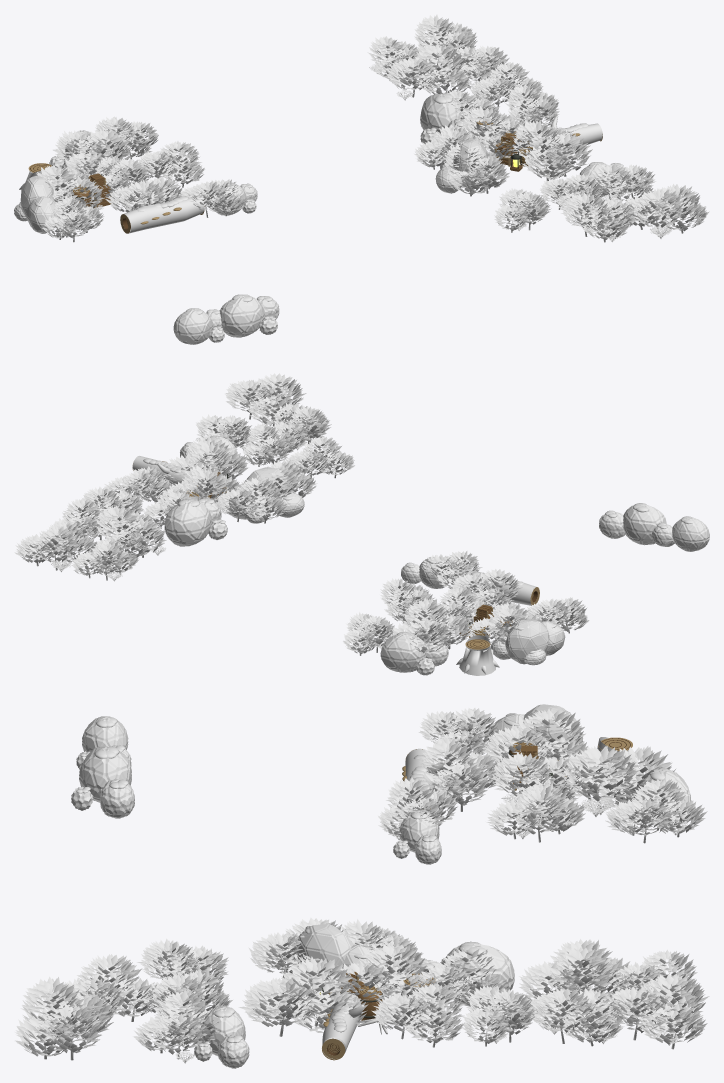
Rendered from SM_DF_Explorer_3_2_Macro.fbx.
3 views of the same model, one above another, from view 1: azimuth 30°, elevation 25°; view 2: azimuth 150°, elevation 25°; view 3: azimuth 270°, elevation 25° (orthographic). The views are drawn at different scales.
Parts seen in each view (by area): view 1: SM_DF_Explorer_3_2_Macro; view 2: SM_DF_Explorer_3_2_Macro; view 3: SM_DF_Explorer_3_2_Macro.
Boxes of the visible parts, left/top/right/bottom form: SM_DF_Explorer_3_2_Macro: left=14, top=14, right=709, bottom=344; SM_DF_Explorer_3_2_Macro: left=14, top=373, right=709, bottom=675; SM_DF_Explorer_3_2_Macro: left=15, top=704, right=709, bottom=1068.
Size of the model in its own units: 2902 by 2484 by 381.
